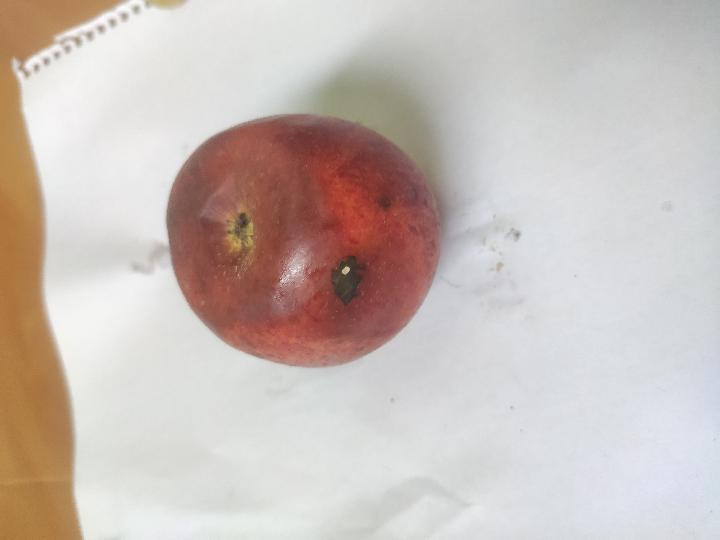apple: (167, 114, 440, 366)
bruise_discoloration: (167, 115, 361, 364)
rot_mold_decay: (331, 256, 364, 306)
